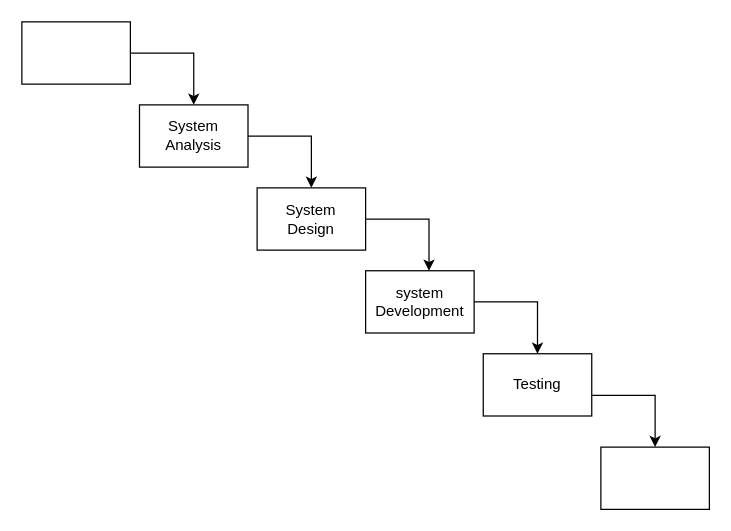
This 731x531 diagram has some shape labels left out. Each missing label, with the centre of its shape:
Problem defination: (x=75, y=52)
System Deployment: (x=654, y=477)
